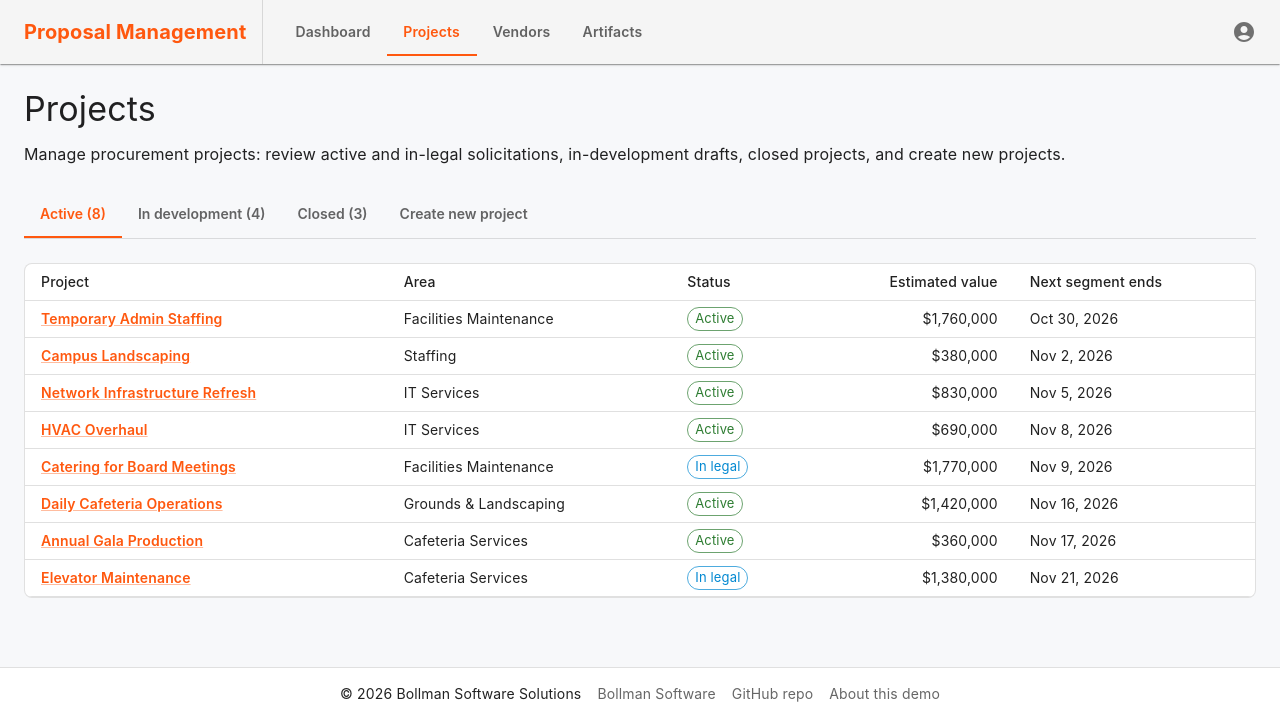
Test: Procurement features (Phase 3) › shows only Closed projects on the Closed tab
The image size is (1280, 720).
Expected: the heading "Projects" is shown, [24, 88, 156, 129]
Click the tab "Closed (3)".
click(333, 214)  # box [282, 190, 384, 238]
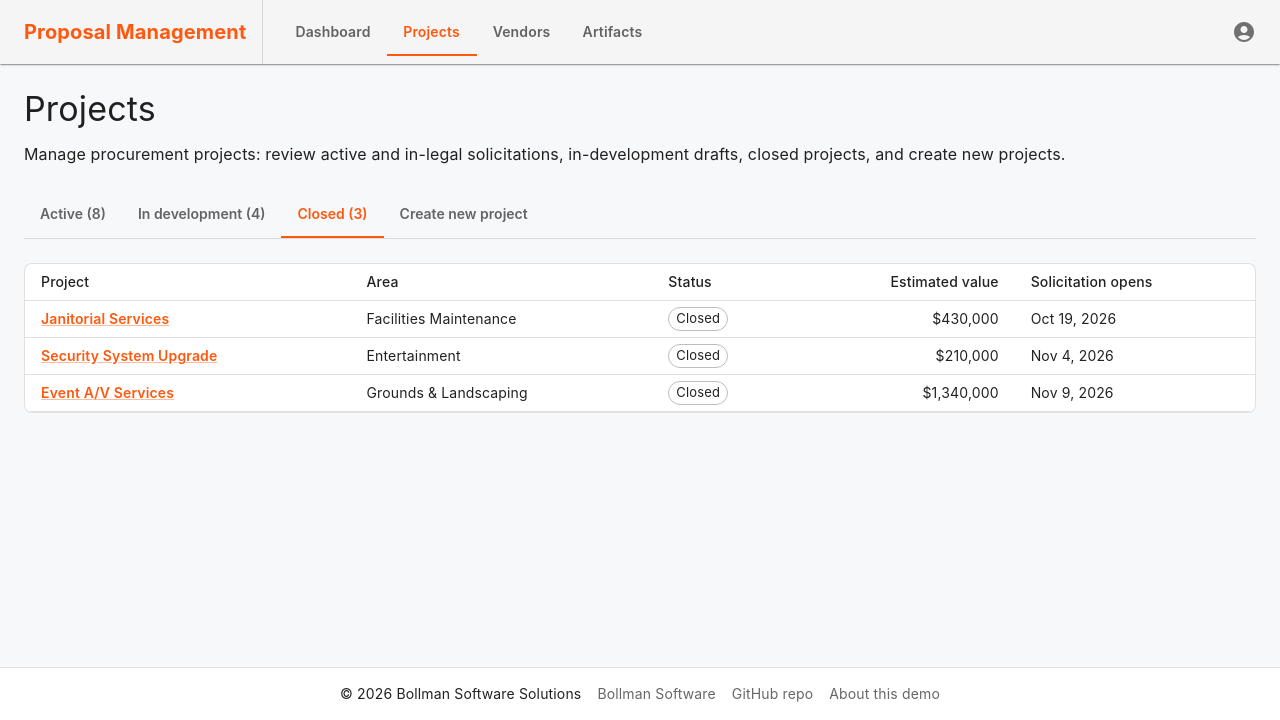
Now the link "Janitorial Services" is shown, box [41, 310, 169, 327]
Now the link "HVAC Overhaul" is gone
